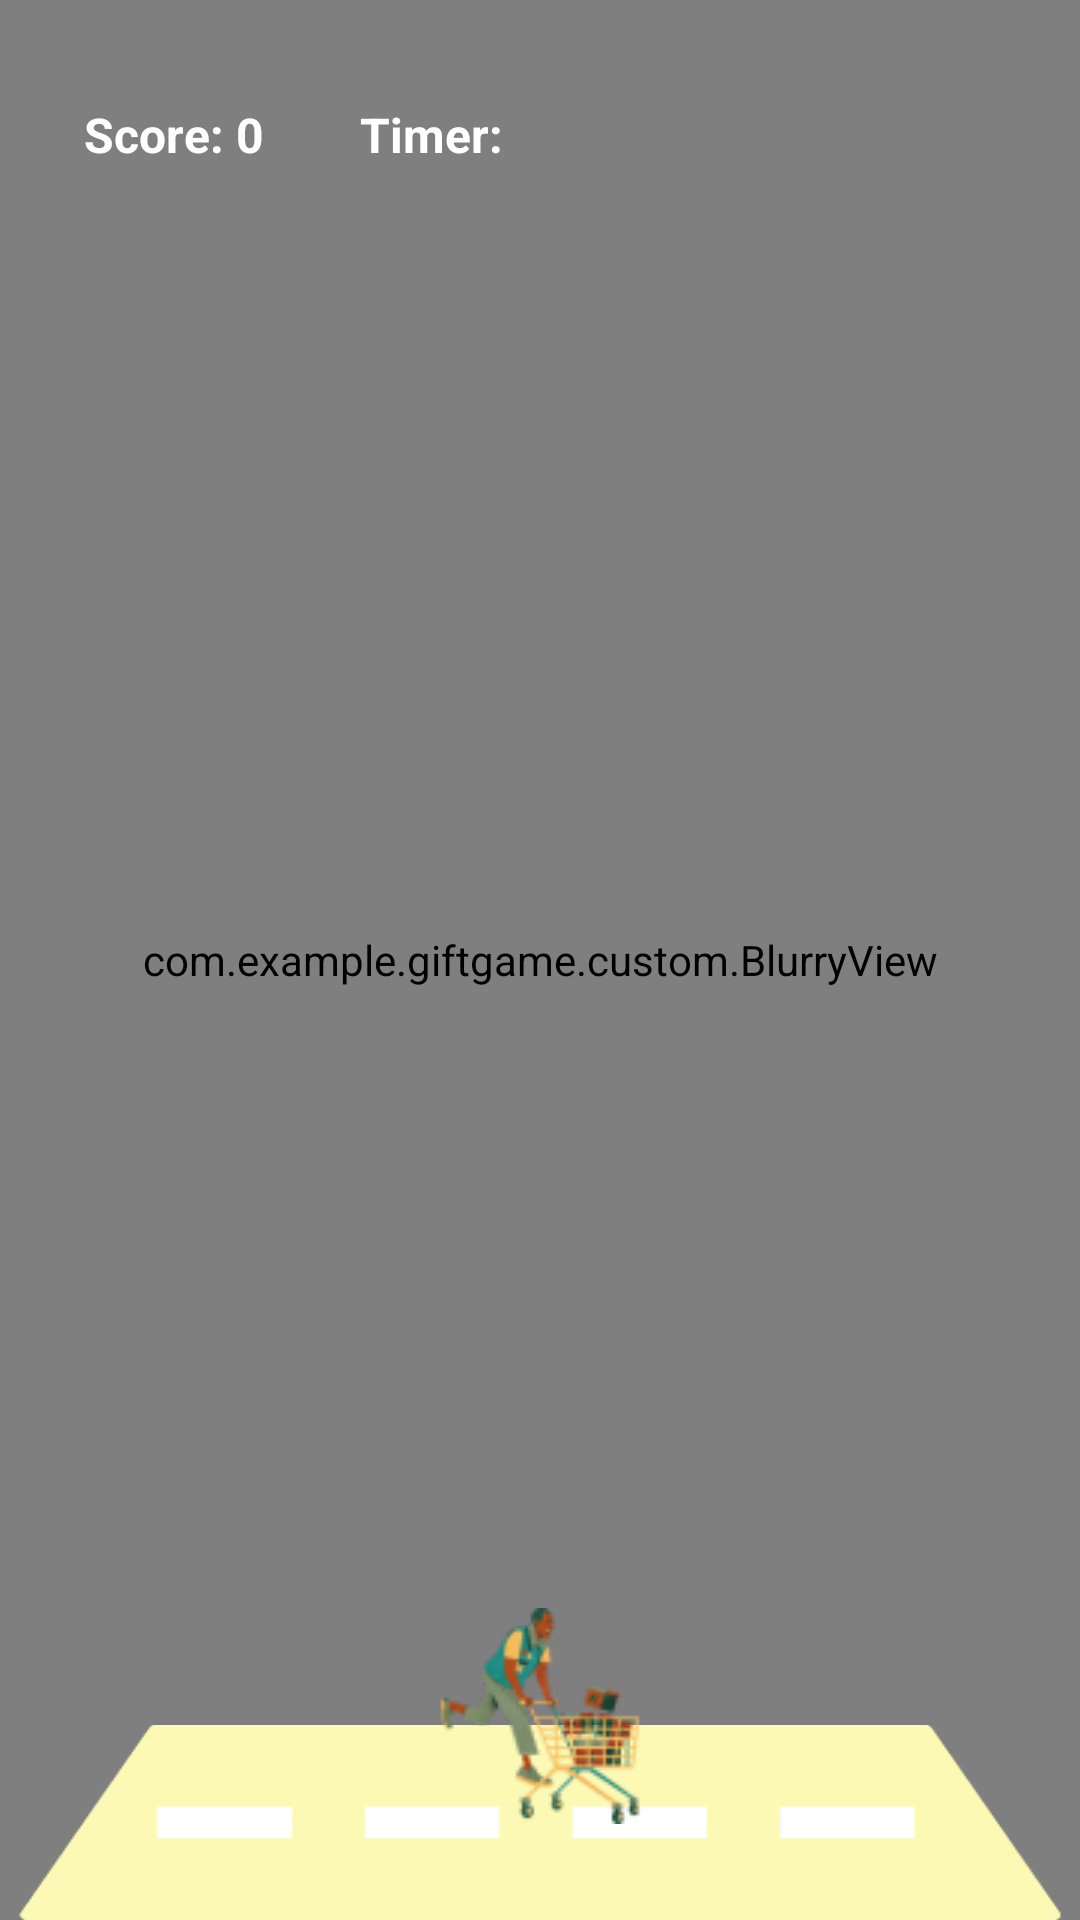

Icon click points for this 1080×1920 phone screenshot, format [x,y]:
cart: [540,1716]
